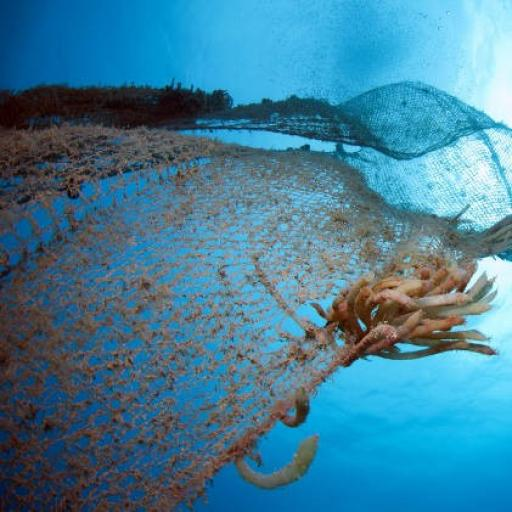net: (1, 78, 512, 512)
